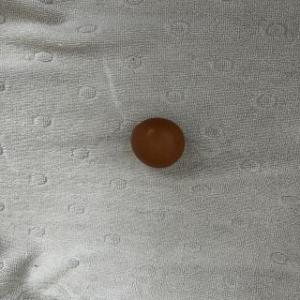egg: (130, 118, 189, 170)
